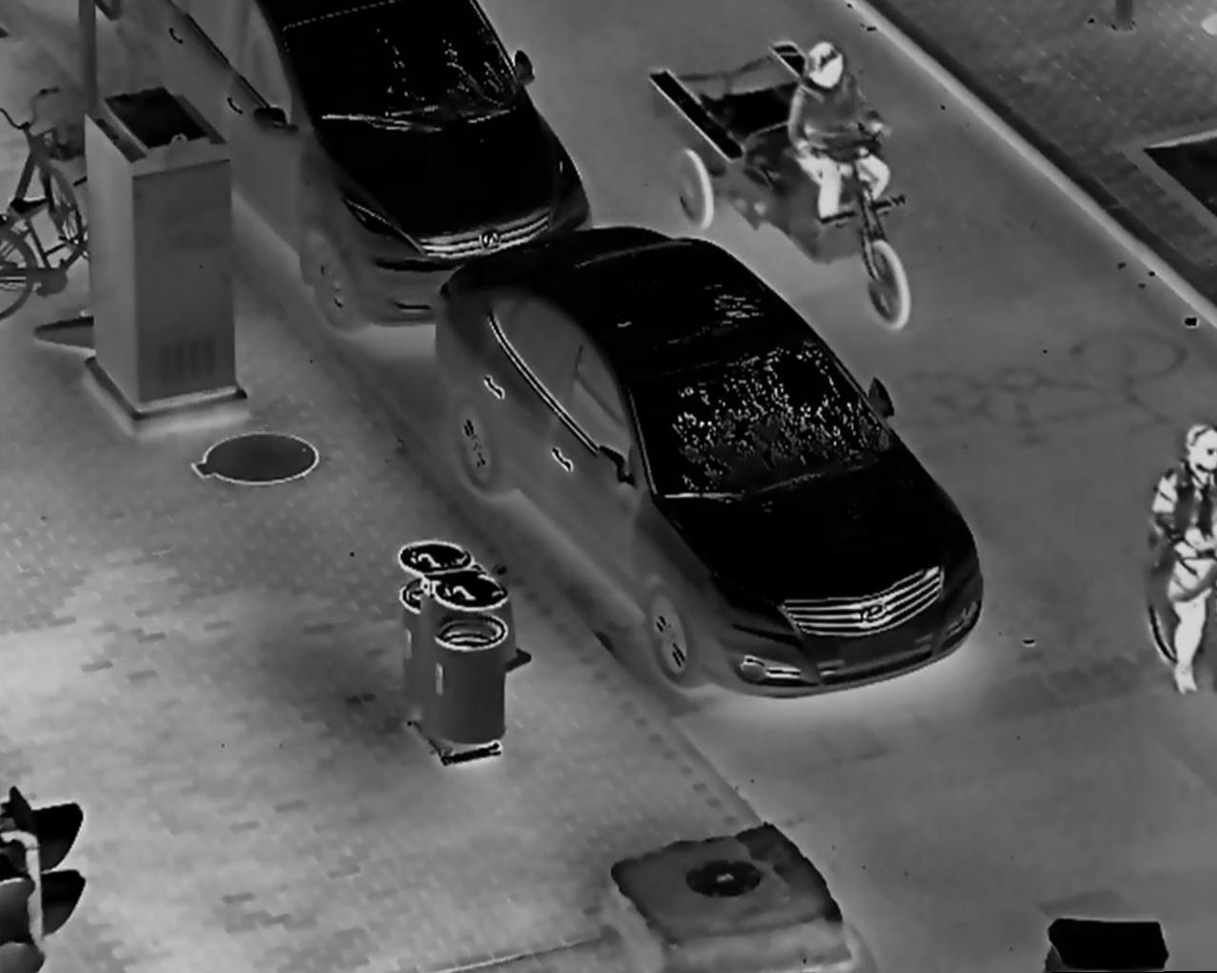person: (781, 33, 903, 251), (1148, 412, 1217, 699)
